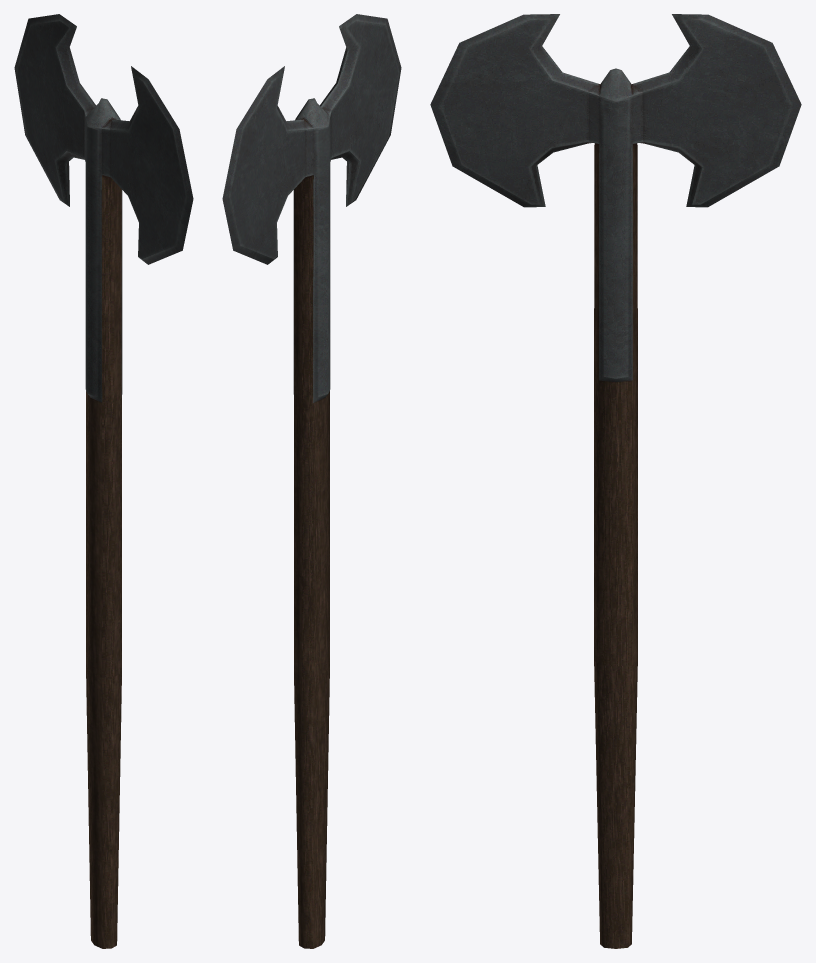
File: double_axe.fbx
3 views of the same model, side by side, from view 1: azimuth 30°, elevation 25°; view 2: azimuth 150°, elevation 25°; view 3: azimuth 270°, elevation 25° (orthographic). The views are drawn at different scales.
Parts seen in each view (by area): view 1: double_axe; view 2: double_axe; view 3: double_axe.
Part boxes in pixels (x1,y1,x2,y2): double_axe: (14, 14, 193, 948); double_axe: (222, 14, 401, 948); double_axe: (430, 14, 801, 948).
Size of the model in its own units: 6.96 by 182 by 65.88.
